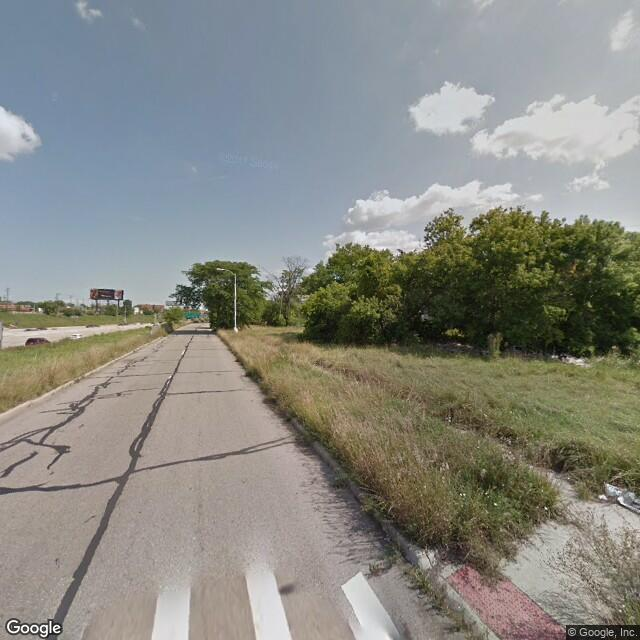litter: (605, 481, 640, 512), (595, 488, 609, 503)
